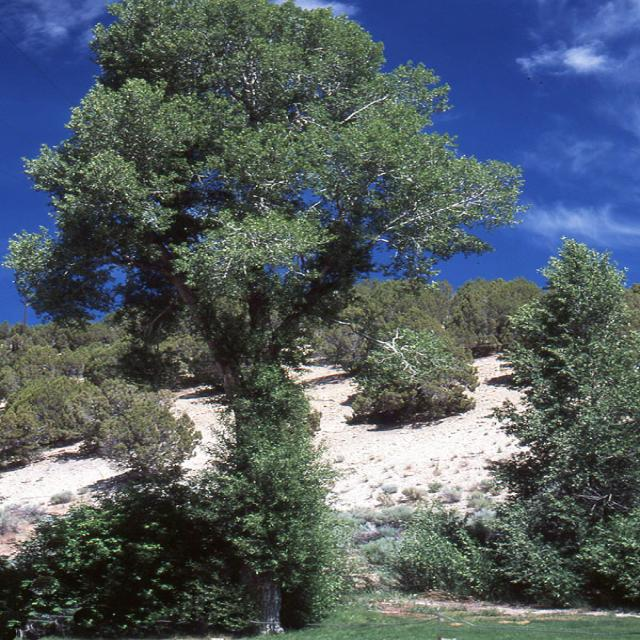Populus angustifolia: (4, 1, 526, 607)
